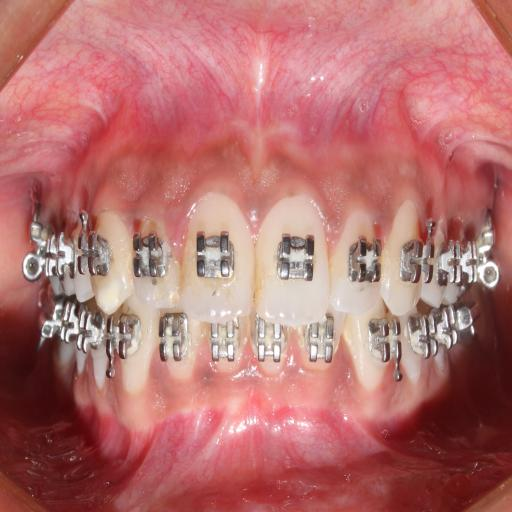correct_brace: (273, 220, 319, 300), (191, 220, 240, 292), (135, 230, 172, 286), (346, 234, 381, 286)
incorrect_brace: (332, 208, 382, 314), (132, 208, 179, 310)
